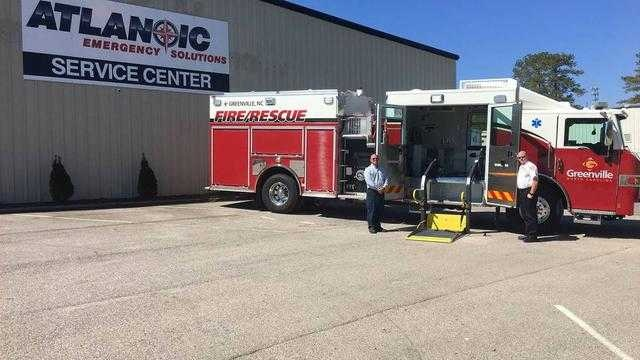Fire Truck: (195, 69, 635, 239)
